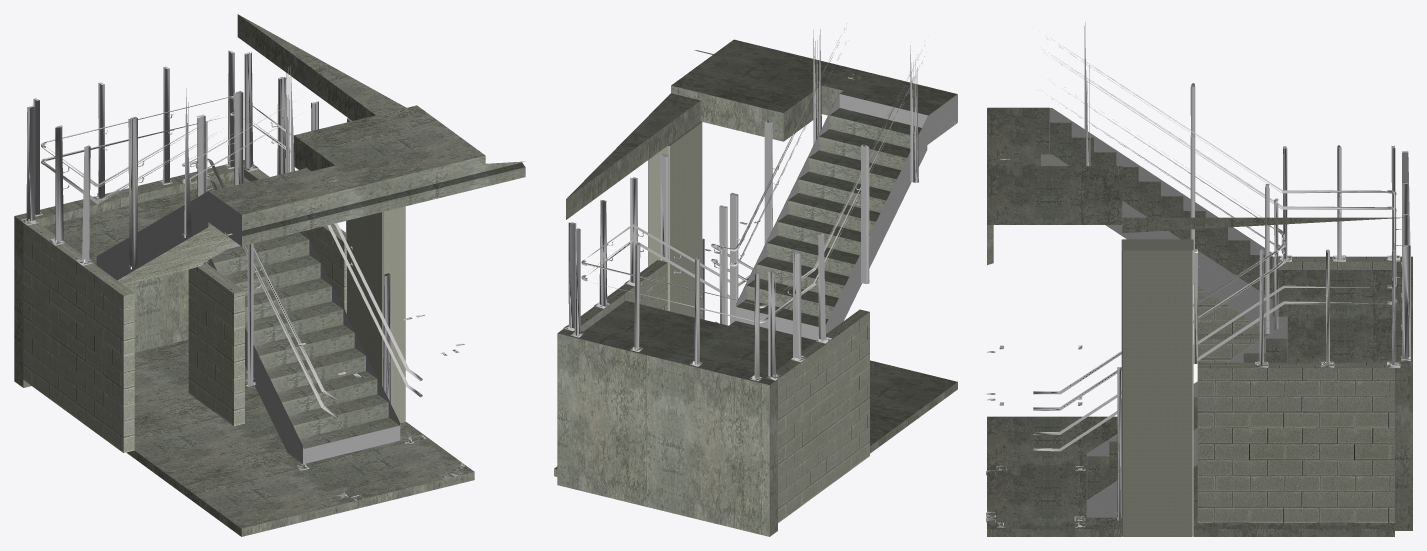
Rendered from stairs.glb.
3 renders of one model, left to right at view 1: azimuth 30°, elevation 25°; view 2: azimuth 150°, elevation 25°; view 3: azimuth 270°, elevation 25°, orthographic. The views are drawn at different scales.
Visible parts, largest first — view 1: body, floor; view 2: body, floor; view 3: body, floor.
Boxes of the visible parts, x1,y1,x2,y2 form: body: (14,14,525,463); floor: (24,339,474,536); body: (557,29,957,536); floor: (554,360,957,476); body: (986,22,1412,536); floor: (986,416,1412,536).
Bounding box in the file's own units: 3.76 × 5.04 × 4.78.
Materials: 14 (6 with a texture image).
